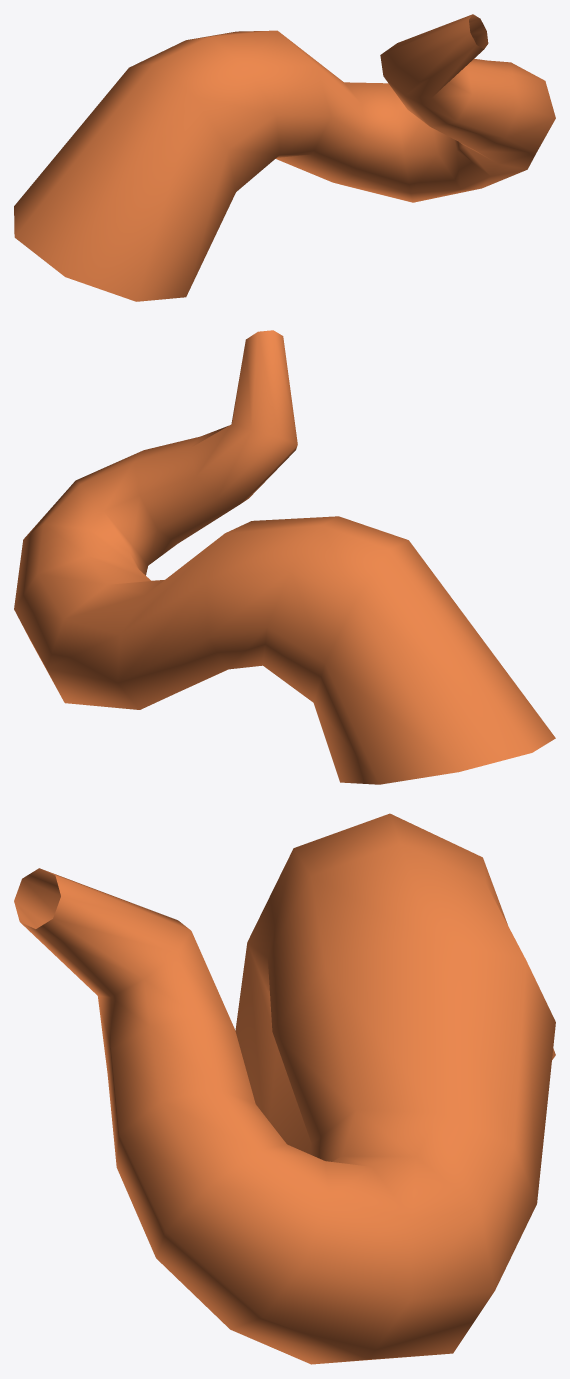
Rendered from SM_RootBlockingZ1001.fbx.
3 renders of one model, top to bottom at view 1: azimuth 30°, elevation 25°; view 2: azimuth 150°, elevation 25°; view 3: azimuth 270°, elevation 25°, orthographic. The views are drawn at different scales.
Parts seen in each view (by area): view 1: NurbsPath.001; view 2: NurbsPath.001; view 3: NurbsPath.001.
Boxes of the visible parts, bbox=[...] form: NurbsPath.001: bbox=[14, 14, 555, 301]; NurbsPath.001: bbox=[14, 330, 555, 784]; NurbsPath.001: bbox=[14, 813, 555, 1364].
Bounding box in the file's own units: 8072 × 4336 × 4643.
